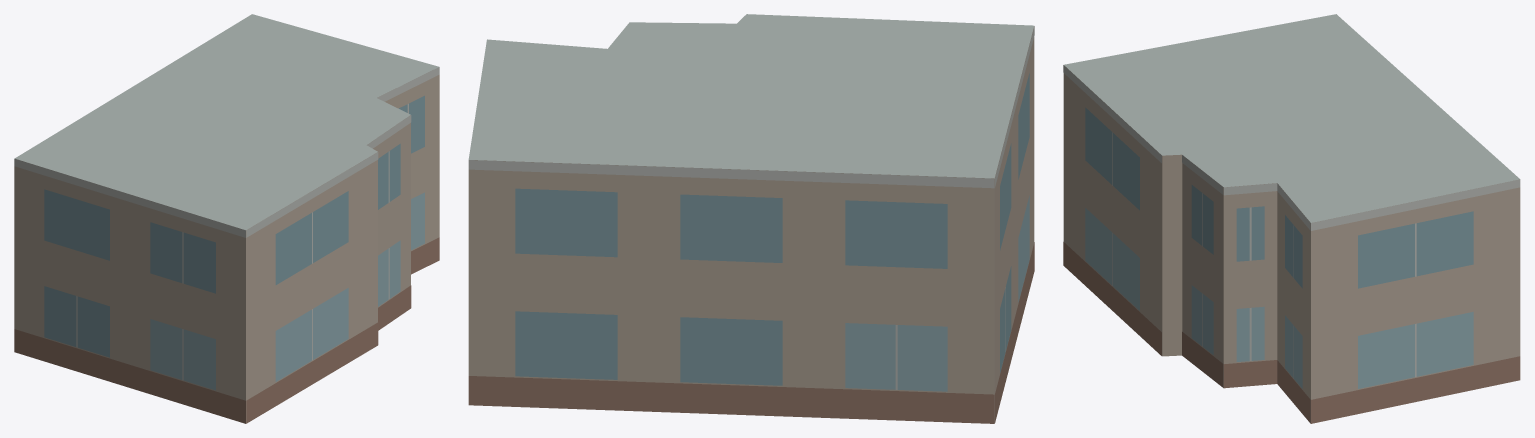
File: survey-upis-32659203.glb
The picture shows the model from 3 angles, left to right: view 1: azimuth 30°, elevation 25°; view 2: azimuth 150°, elevation 25°; view 3: azimuth 270°, elevation 25°; orthographic projection. The views are drawn at different scales.
Parts seen in each view (by area): view 1: survey-upis-32659203.tmp; view 2: survey-upis-32659203.tmp; view 3: survey-upis-32659203.tmp.
Part boxes in pixels (bbox=[...]): survey-upis-32659203.tmp: bbox=[14, 14, 439, 423]; survey-upis-32659203.tmp: bbox=[468, 14, 1034, 423]; survey-upis-32659203.tmp: bbox=[1063, 14, 1520, 423].
Bounding box in the file's own units: 13.62 × 6.1 × 12.58.
